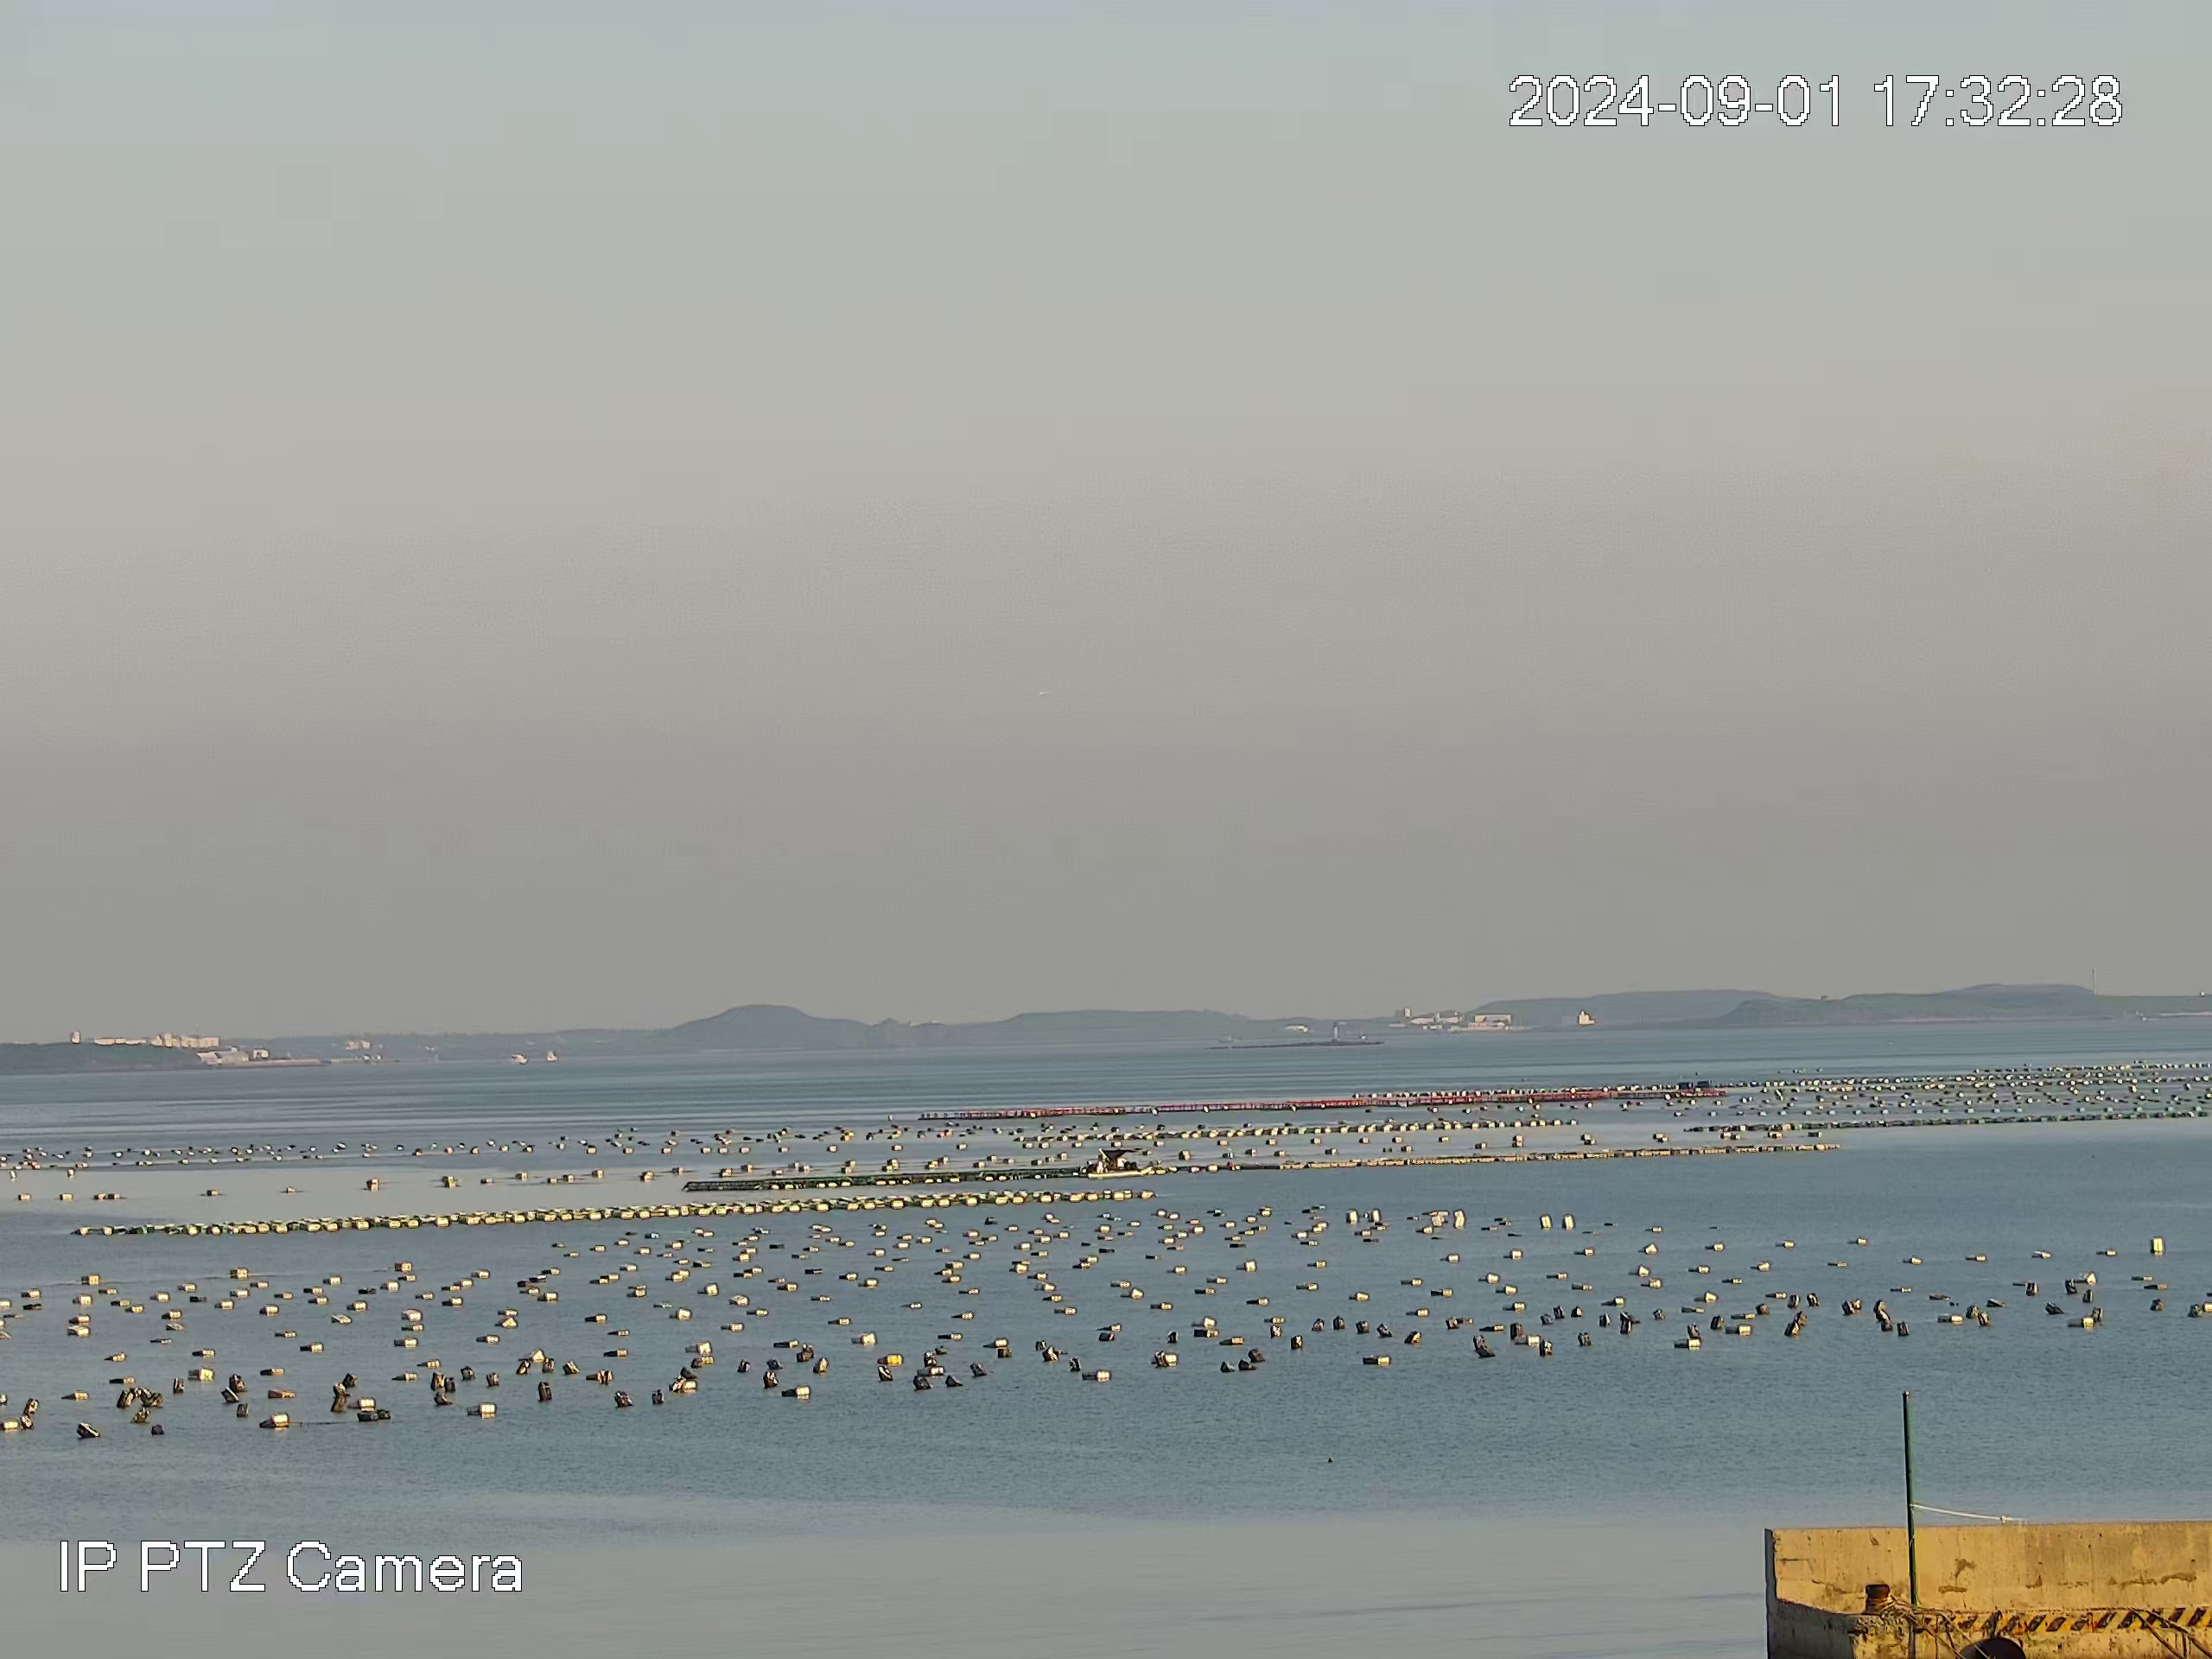boat: (1089, 1147, 1151, 1176)
